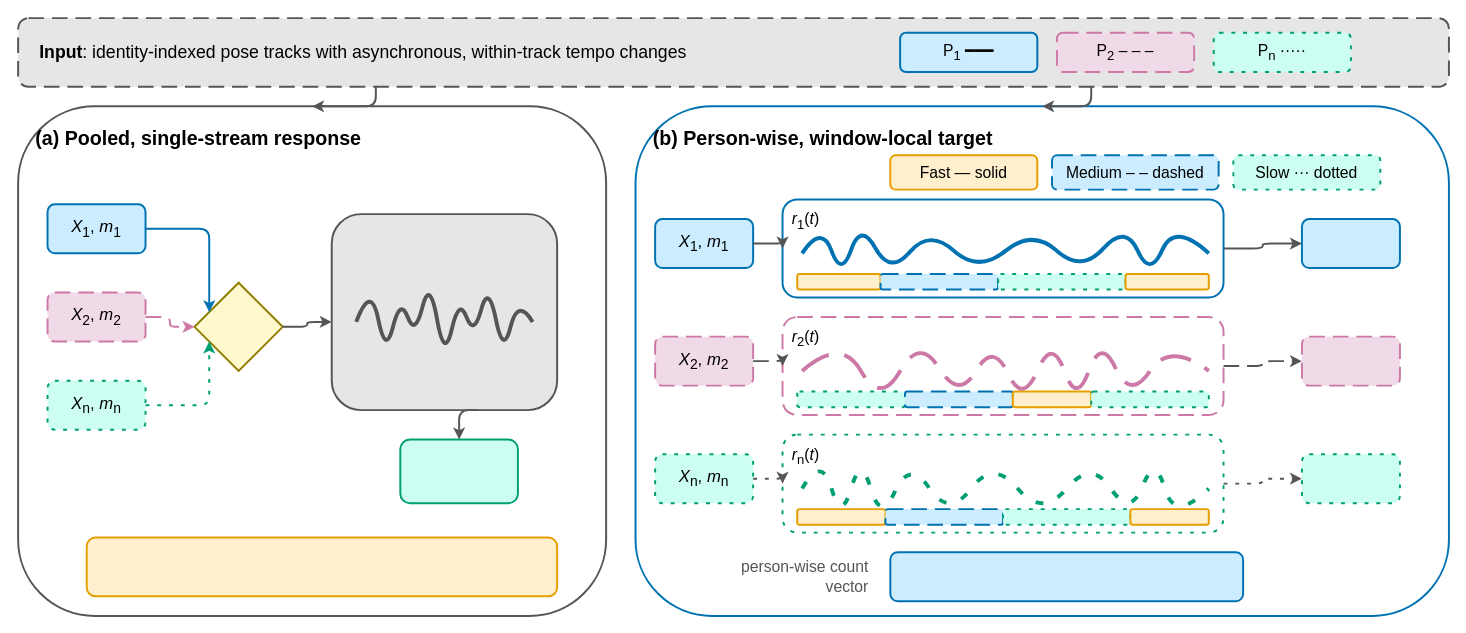
Image size: 1466x633. Some labels were removed from this diagram. Here are the shapes that lost their labels. From the top down, the centre of each, then its label:
At (1350,243): "ĉ 1".
At (238,326): "pool".
At (444,312): "one response r ( t )".
At (1350,360): "ĉ 2".
At (458,471): "one scalar ĉ".
At (1350,478): "ĉ n".
At (321,566): "Identity-specific tempo is not explicit after pooling".
At (1066,576): "ĉ = [ĉ 1 , ĉ 2 , …, ĉ n ] T".
